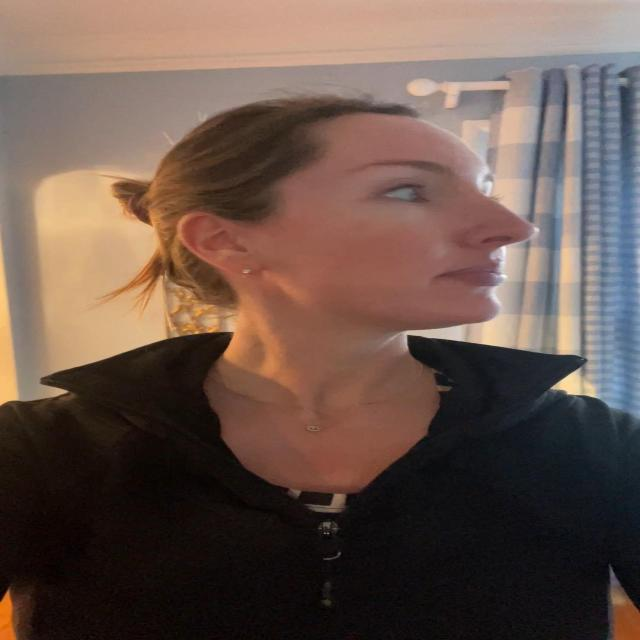no-helmet: (151, 106, 522, 365)
